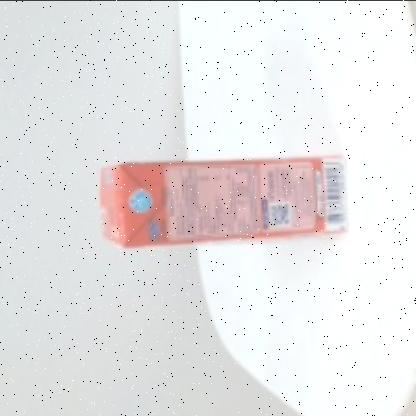Others: (101, 156, 348, 247)
